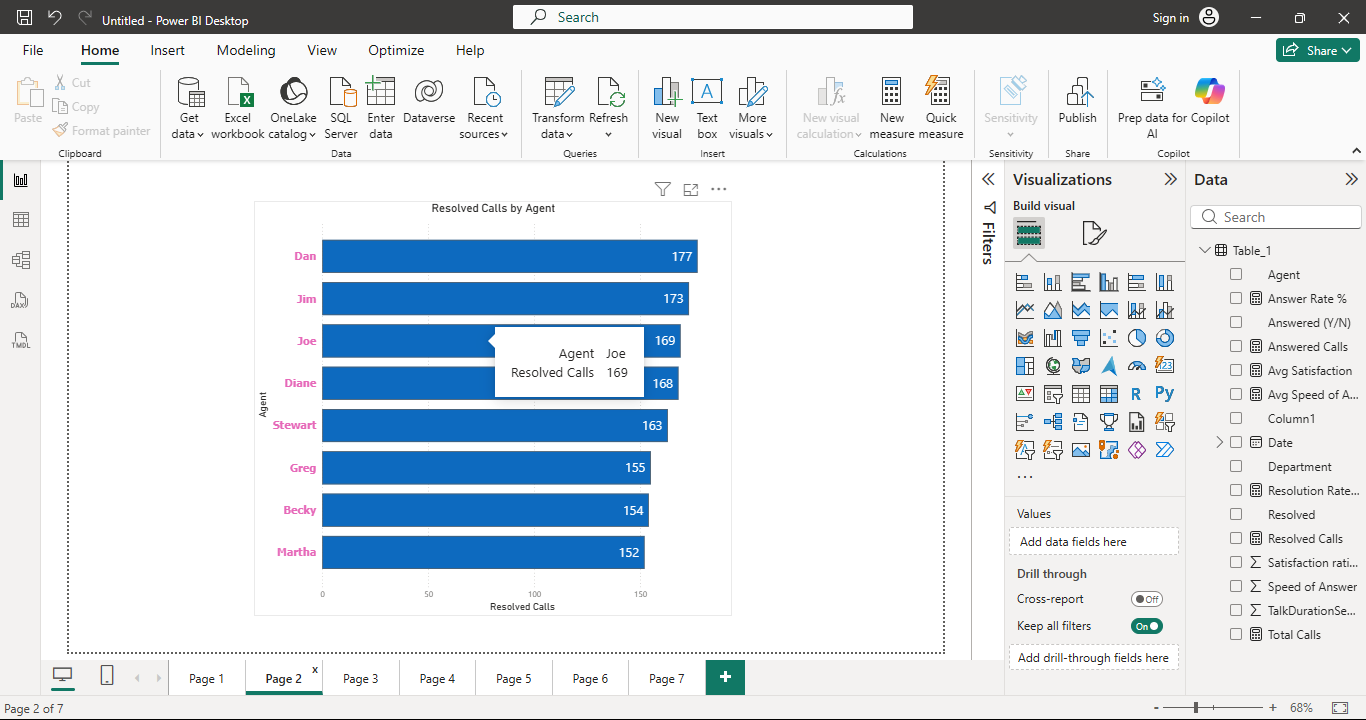

Layout of this report page (visuals, bound fields, positions):
{"tool":"powerbi","page":{"name":"Page 2","canvas":[1280,720],"ordinal":1},"visuals":[{"type":"clusteredBarChart","fields":{"Category":["Table_1.Agent"],"Y":["Table_1.Resolved Calls"]},"box":[270.4,60.5,700.5,606.4],"z":0}]}

Visuals, with their boxes on the page's 1280x720 design canvas (x1, y1, x2, y2). These are canvas units, not pixel positions in the 1366x720 screenshot, which may show the page scaled, cropped or inside an application window:
clusteredBarChart - Table_1.Agent x Table_1.Resolved Calls: l=270, t=60, r=971, b=667
